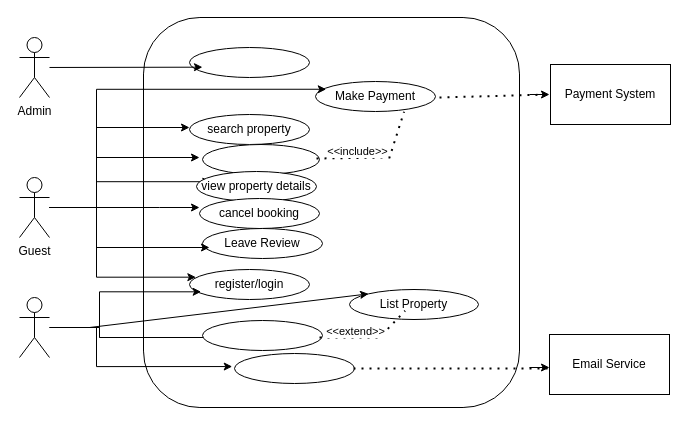
The diagram is 688 pixels wide and 425 high, and some of its shapes have lost their labels. Each missing label, with the box of its shape:
Admin Dashboard: (188, 46, 310, 78)
book property: (202, 144, 320, 174)
Host: (18, 296, 50, 358)
Manage Linstings: (202, 320, 322, 350)
Recieve Notifications: (234, 352, 354, 384)
